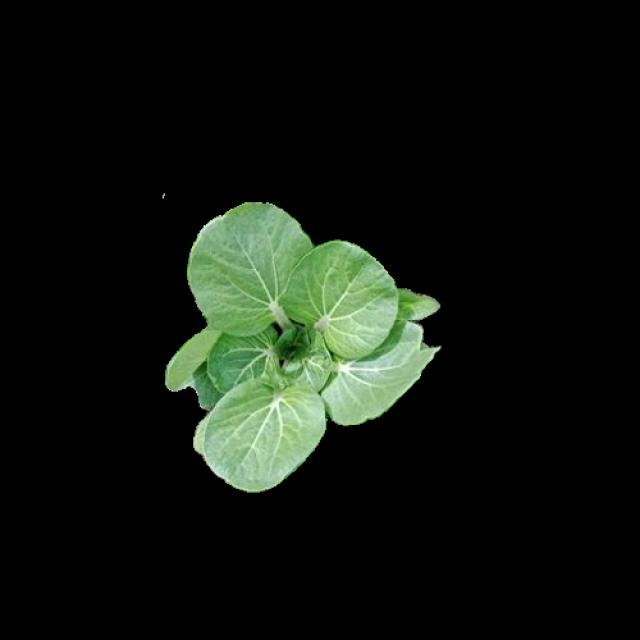healthy: (165, 197, 439, 488)
not-mature: (168, 200, 442, 490)
